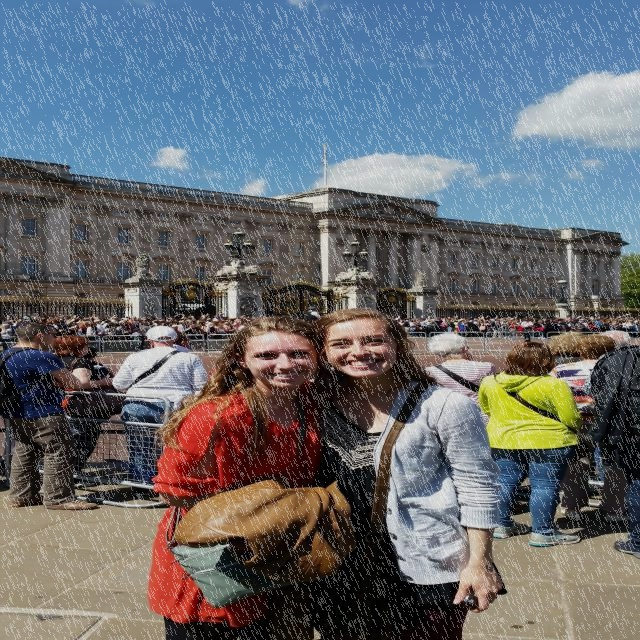pessoa: (306, 307, 507, 640), (149, 316, 329, 640), (475, 341, 590, 548), (0, 322, 100, 509), (113, 324, 210, 500), (546, 333, 632, 523), (584, 342, 640, 559), (52, 334, 114, 478), (424, 332, 496, 426), (0, 311, 269, 335), (390, 315, 616, 328), (546, 330, 588, 370), (598, 330, 632, 350), (614, 315, 640, 338), (172, 331, 193, 353), (0, 323, 14, 351), (115, 323, 134, 341), (129, 328, 143, 352), (304, 306, 322, 324), (464, 317, 479, 338), (52, 327, 76, 339), (198, 320, 214, 338), (212, 322, 228, 340), (206, 322, 217, 348), (419, 317, 432, 338), (520, 318, 533, 338), (535, 320, 548, 340), (80, 348, 98, 361), (86, 322, 98, 341), (177, 320, 193, 334), (539, 317, 550, 337), (140, 322, 158, 334), (432, 317, 444, 335), (484, 320, 496, 338), (14, 318, 31, 330), (402, 318, 412, 338), (409, 318, 419, 338), (456, 318, 466, 338), (500, 318, 510, 338), (557, 318, 571, 332), (132, 318, 145, 333), (552, 319, 562, 338), (124, 322, 134, 340), (492, 320, 502, 338), (510, 320, 520, 338), (138, 330, 146, 350), (222, 320, 234, 332), (104, 324, 115, 336), (574, 320, 585, 332), (74, 326, 86, 336), (170, 319, 180, 331), (194, 324, 206, 334), (446, 318, 454, 332), (582, 320, 590, 334), (588, 321, 598, 332), (593, 318, 603, 328), (234, 320, 244, 328), (566, 318, 572, 331), (606, 319, 612, 332), (478, 323, 486, 332), (452, 320, 460, 328), (398, 319, 404, 326)
